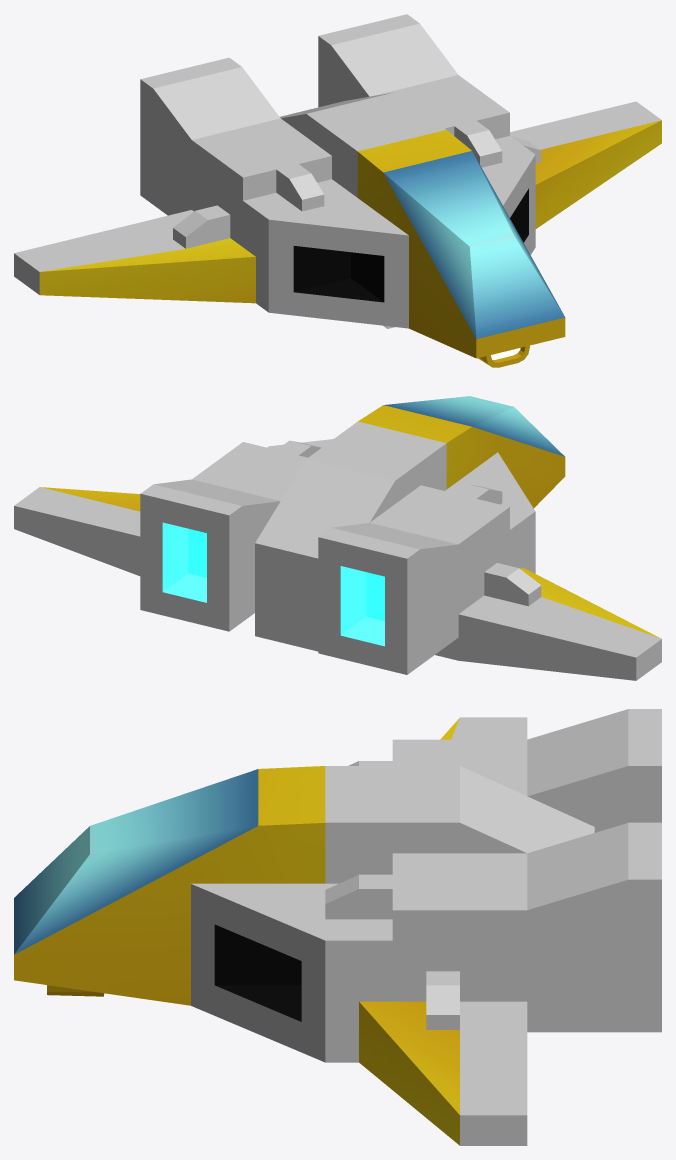
The model's file is PlayerSpaceShip.fbx.
The picture shows the model from 3 angles, top to bottom: view 1: azimuth 30°, elevation 25°; view 2: azimuth 150°, elevation 25°; view 3: azimuth 270°, elevation 25°; orthographic projection. The views are drawn at different scales.
Parts seen in each view (by area): view 1: craft_speederC; view 2: craft_speederC; view 3: craft_speederC.
Part boxes in pixels (x1,y1,x2,y2): craft_speederC: (14, 14, 661, 367); craft_speederC: (14, 396, 661, 680); craft_speederC: (14, 709, 661, 1145).
Bounding box in the file's own units: 280 × 79.49 × 193.
